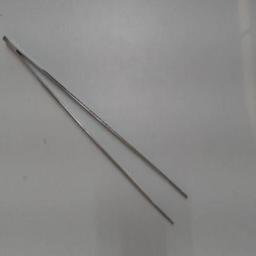DeBakey Dissector: (1, 28, 197, 234)
